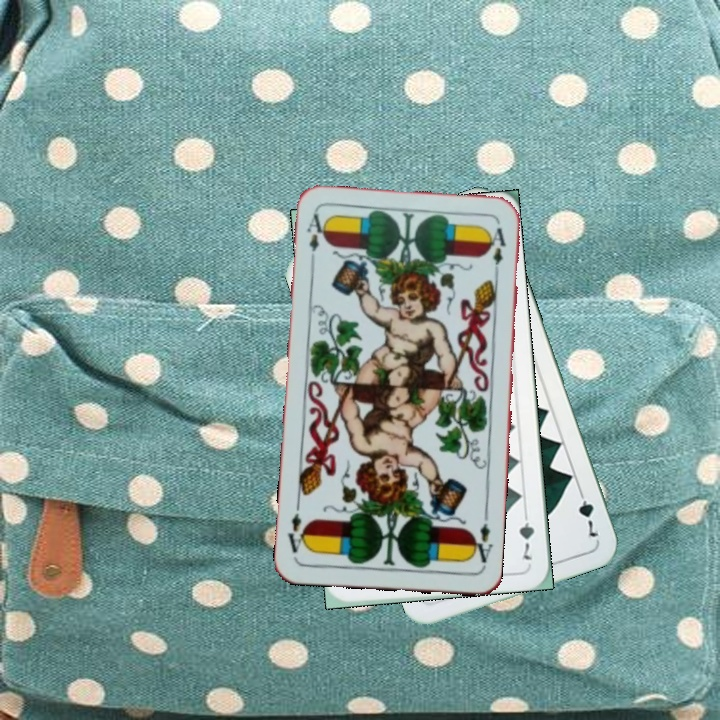EA: (303, 209, 329, 268), (467, 519, 495, 570)
G7: (574, 484, 602, 540), (515, 505, 537, 563)
